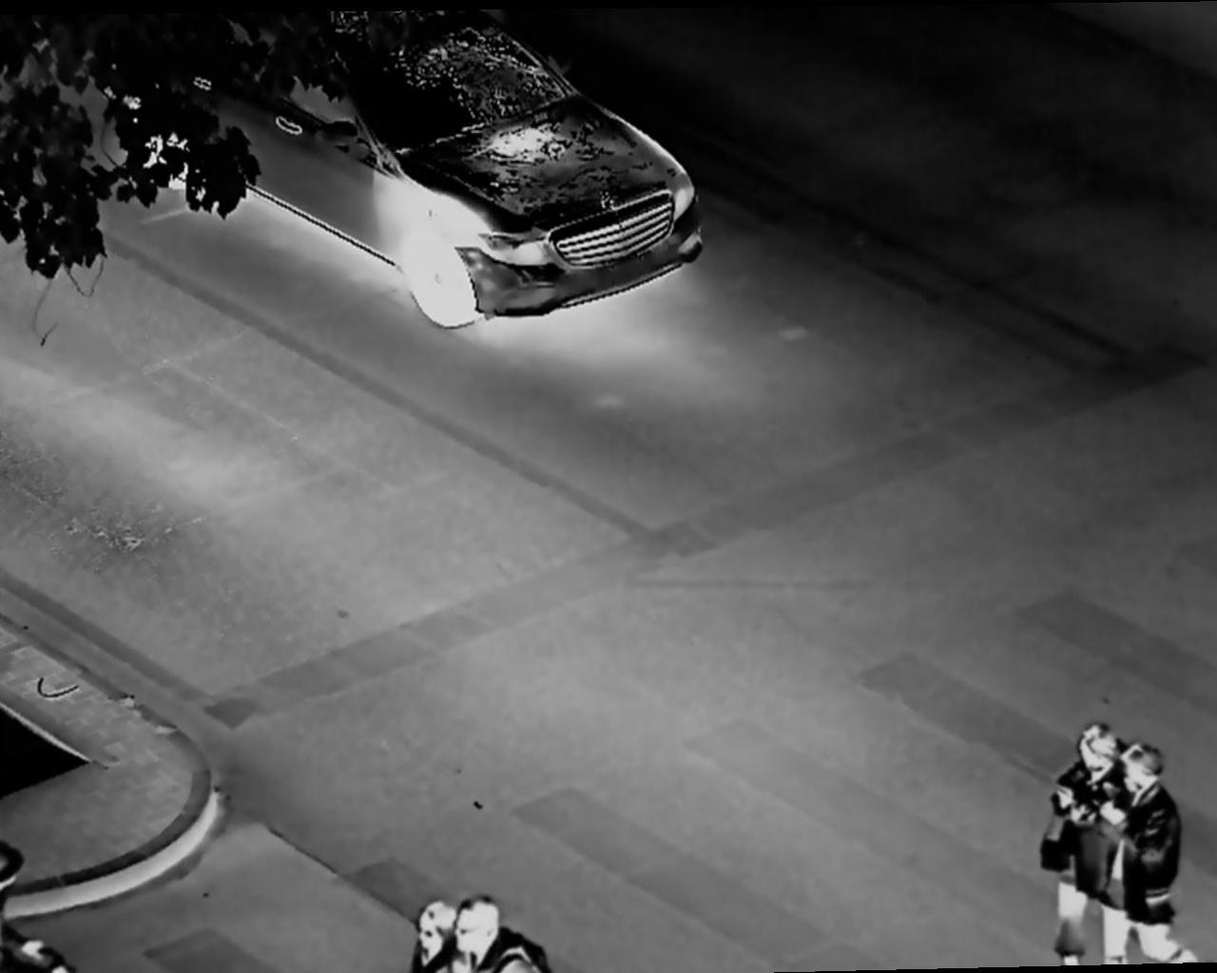person: (1036, 714, 1127, 973), (1117, 744, 1212, 972), (449, 897, 546, 973), (391, 897, 450, 973)
